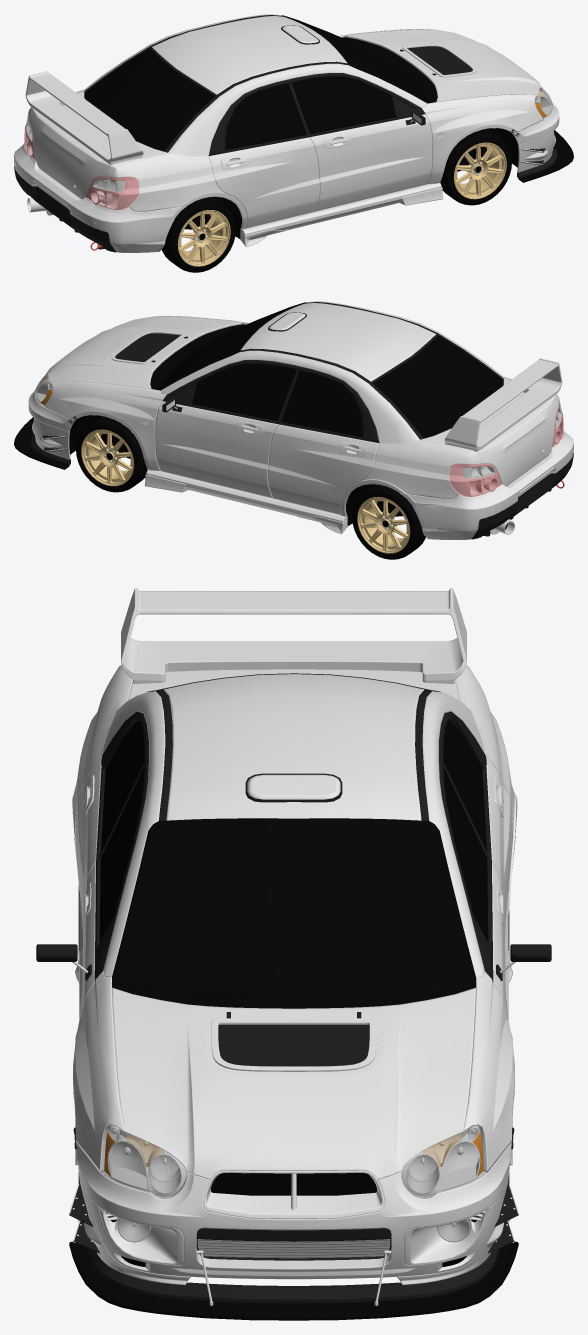
The model's file is veh-subaru-wrx-sti.glb.
The picture shows the model from 3 angles, top to bottom: view 1: azimuth 30°, elevation 25°; view 2: azimuth 150°, elevation 25°; view 3: azimuth 270°, elevation 25°; orthographic projection. The views are drawn at different scales.
Visible parts, largest first — view 1: Doors_Car Paint_0, Body_Car Paint_0, Top w/ Spec C Roof Vent Closed_Car Paint_0, Side Windows_Window_0, Rear Window_Window_0, Aftermarket Hood/Bonnet_Car Paint_0, Rear Bumper_Car Paint_0, Front Side_Car Paint_0, Spoiler_Car Paint_0, Trunk_Car Paint_0, Matte Parts_Matte (Shiny)_0, Front Window_Window_0 (+16 smaller); view 2: Doors_Car Paint_0, Body_Car Paint_0, Top w/ Spec C Roof Vent Closed_Car Paint_0, Side Windows_Window_0, Rear Window_Window_0, Aftermarket Hood/Bonnet_Car Paint_0, Front Side_Car Paint_0, Spoiler_Car Paint_0, Trunk_Car Paint_0, Rear Bumper_Car Paint_0, Matte Parts_Matte (Shiny)_0, Front Window_Window_0 (+17 smaller); view 3: Front Window_Window_0, Aftermarket Hood/Bonnet_Car Paint_0, Top w/ Spec C Roof Vent Closed_Car Paint_0, Front Bumper /w Foglights_Car Paint_0, Spoiler_Car Paint_0, Body_Car Paint_0, Front Side_Car Paint_0, Side Windows_Window_0, Matte Parts_Matte (Shiny)_0, Front Bumper Skirt_Dark Chrome_0, Doors_Car Paint_0, HL Glass_Clear_0 (+15 smaller).
Part boxes in pixels (x1,y1,x2,y2): Doors_Car Paint_0: (209,114,432,228); Body_Car Paint_0: (28,14,427,229); Top w/ Spec C Roof Vent Closed_Car Paint_0: (152,15,347,94); Side Windows_Window_0: (225,77,395,150); Rear Window_Window_0: (84,48,214,151); Aftermarket Hood/Bonnet_Car Paint_0: (345,29,542,101); Rear Bumper_Car Paint_0: (14,142,187,252); Front Side_Car Paint_0: (338,28,544,184); Spoiler_Car Paint_0: (25,71,143,164); Trunk_Car Paint_0: (29,91,166,199); Matte Parts_Matte (Shiny)_0: (84,15,424,155); Front Window_Window_0: (281,15,429,103); Doors_Car Paint_0: (155,401,378,515); Body_Car Paint_0: (160,301,559,516); Top w/ Spec C Roof Vent Closed_Car Paint_0: (240,302,435,381); Side Windows_Window_0: (192,364,362,437); Rear Window_Window_0: (373,335,503,438); Aftermarket Hood/Bonnet_Car Paint_0: (45,316,242,388); Front Side_Car Paint_0: (43,315,249,471); Spoiler_Car Paint_0: (444,358,562,451); Trunk_Car Paint_0: (421,378,558,486); Rear Bumper_Car Paint_0: (407,429,573,539); Matte Parts_Matte (Shiny)_0: (163,302,503,442); Front Window_Window_0: (158,302,306,390); Front Window_Window_0: (112,818,475,999); Aftermarket Hood/Bonnet_Car Paint_0: (112,987,475,1179); Top w/ Spec C Roof Vent Closed_Car Paint_0: (163,674,424,820); Front Bumper /w Foglights_Car Paint_0: (76,1142,511,1285); Spoiler_Car Paint_0: (121,588,466,683); Body_Car Paint_0: (73,664,514,977); Front Side_Car Paint_0: (73,971,514,1172); Side Windows_Window_0: (99,721,488,941); Matte Parts_Matte (Shiny)_0: (94,673,493,982); Front Bumper Skirt_Dark Chrome_0: (69,1241,518,1320); Doors_Car Paint_0: (74,756,513,1019); HL Glass_Clear_0: (101,1125,486,1198).
Bounding box in the file's own units: 5.4 × 1.74 × 2.44.
